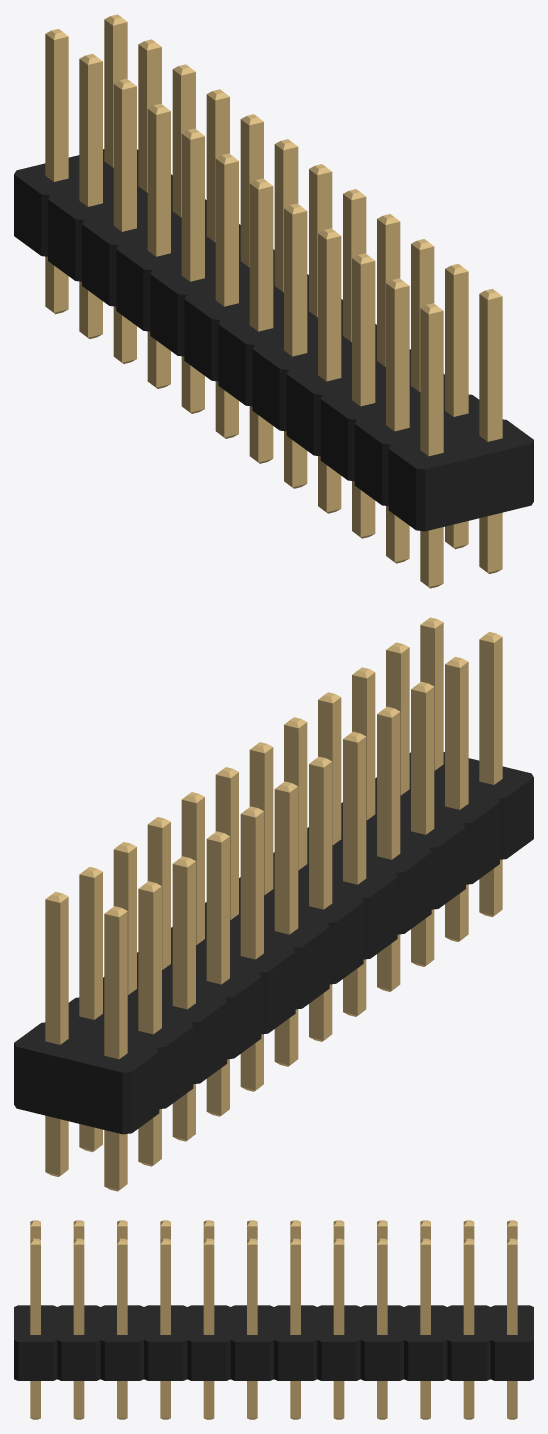
File: kc-pinheader_2x12_p2.54mm_vertical.glb
3 views of the same model, one above another, from view 1: azimuth 30°, elevation 25°; view 2: azimuth 150°, elevation 25°; view 3: azimuth 270°, elevation 25° (orthographic). The views are drawn at different scales.
Visible parts, largest first — view 1: 0.75_0.5_0.25_0.9, 0_0_0_0; view 2: 0.75_0.5_0.25_0.9, 0_0_0_0; view 3: 0_0_0_0, 0.75_0.5_0.25_0.9.
Part boxes in pixels (x1,y1,x2,y2): 0.75_0.5_0.25_0.9: [45, 14, 502, 588]; 0_0_0_0: [14, 149, 533, 531]; 0.75_0.5_0.25_0.9: [45, 617, 502, 1191]; 0_0_0_0: [14, 752, 533, 1134]; 0_0_0_0: [14, 1305, 533, 1380]; 0.75_0.5_0.25_0.9: [30, 1220, 517, 1419].
Size of the model in its own units: 0.5079 by 1.15 by 3.05.
